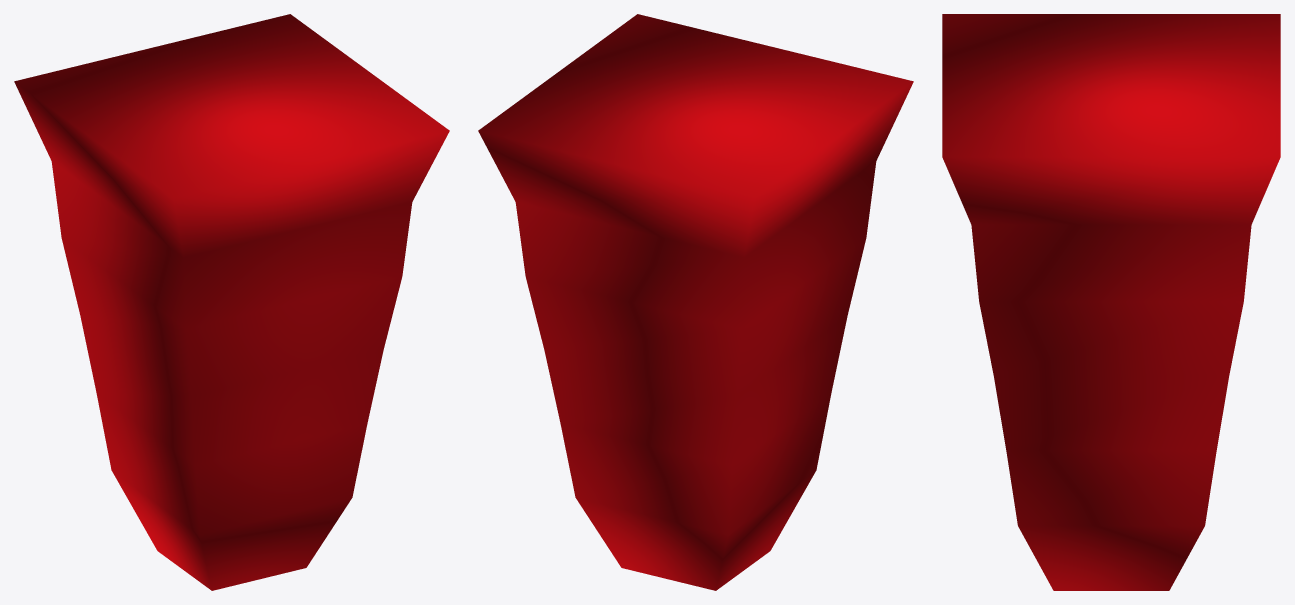
Rendered from player.fbx.
The picture shows the model from 3 angles, left to right: view 1: azimuth 30°, elevation 25°; view 2: azimuth 150°, elevation 25°; view 3: azimuth 270°, elevation 25°; orthographic projection. The views are drawn at different scales.
Parts seen in each view (by area): view 1: Cube; view 2: Cube; view 3: Cube.
Part boxes in pixels (x1=…): Cube: x1=14, y1=14, x2=449, y2=590; Cube: x1=478, y1=14, x2=913, y2=590; Cube: x1=942, y1=14, x2=1280, y2=590.
Bounding box in the file's own units: 1.28 × 2 × 1.28.
